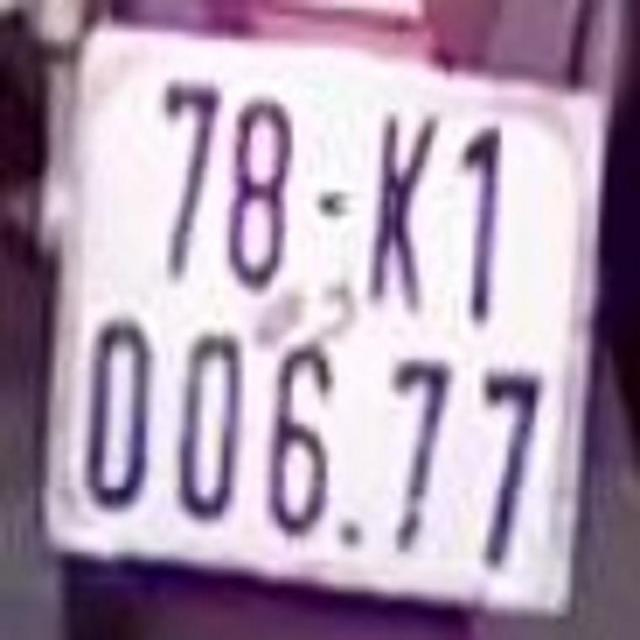0: (87, 320, 150, 500), (184, 316, 240, 516)
1: (452, 125, 500, 316)
6: (266, 342, 338, 538)
7: (386, 352, 458, 558), (472, 360, 539, 575), (156, 82, 216, 281)
8: (229, 93, 295, 284)
K: (366, 116, 432, 314)
